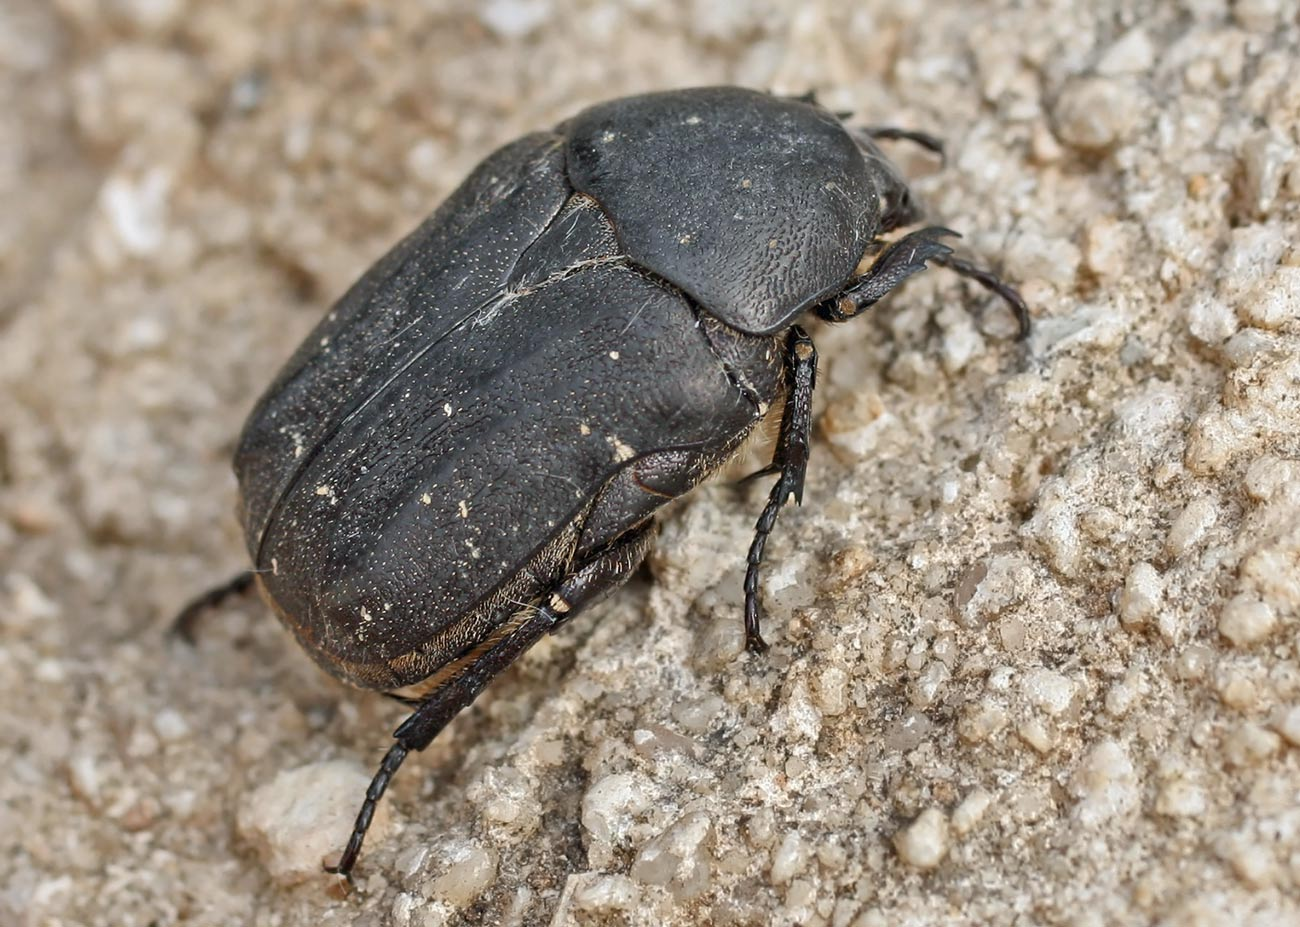Protaetia_morio_morio: (154, 53, 1065, 897)
